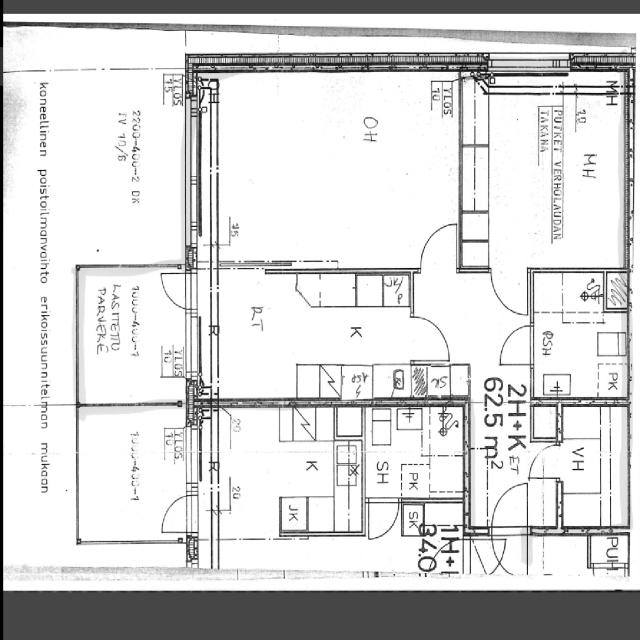door: (487, 478, 530, 576), (408, 311, 454, 367), (487, 261, 531, 319), (416, 219, 460, 275), (493, 318, 537, 371), (154, 488, 199, 538), (363, 493, 402, 545), (155, 267, 195, 312), (525, 442, 563, 483)
window: (486, 54, 568, 78), (218, 258, 270, 285), (68, 413, 86, 476)
zone: (208, 72, 470, 271), (11, 61, 192, 271), (211, 269, 421, 404), (514, 88, 632, 268), (208, 406, 366, 540), (75, 405, 192, 547), (76, 265, 191, 407), (531, 272, 626, 402), (364, 401, 467, 502), (554, 405, 627, 532), (409, 498, 466, 572), (422, 363, 470, 401)
